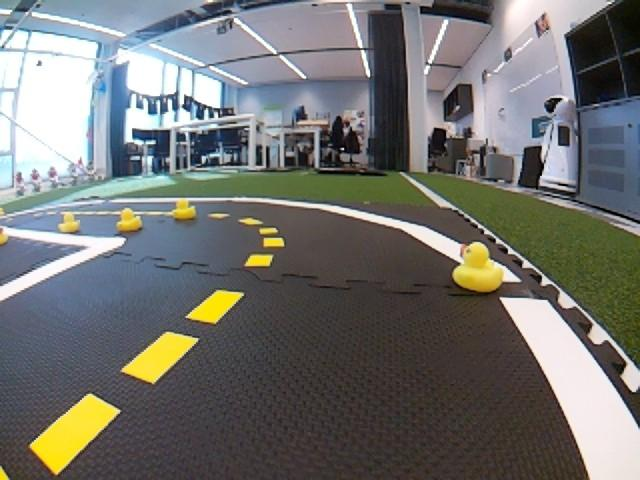Duckies: (453, 242, 505, 293), (115, 208, 141, 231), (171, 199, 197, 220), (59, 213, 80, 232), (0, 226, 9, 248), (0, 204, 4, 216)
